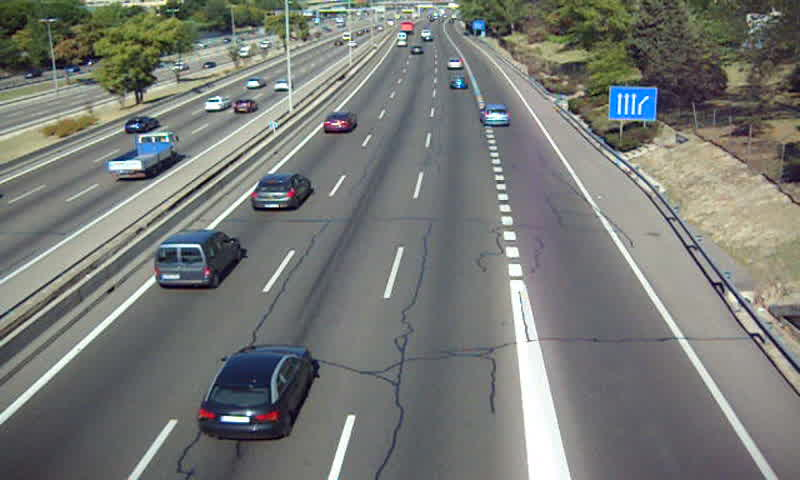car: (197, 345, 314, 439), (251, 175, 312, 210), (322, 112, 356, 134), (480, 103, 511, 125), (448, 76, 468, 90), (446, 57, 464, 69)
van: (152, 232, 240, 287)
